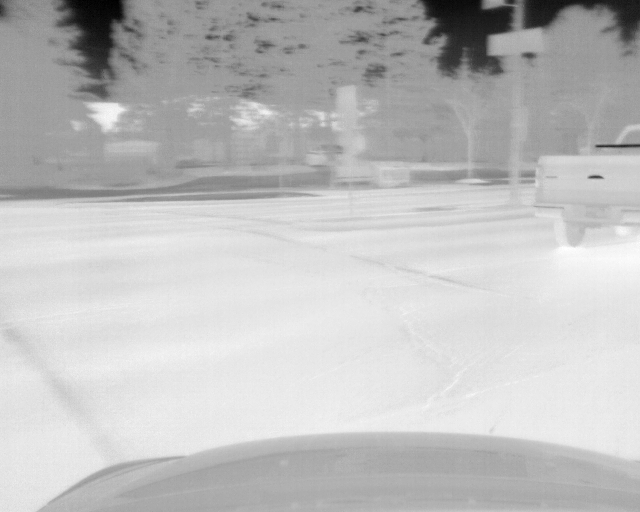car: (531, 123, 640, 247)
